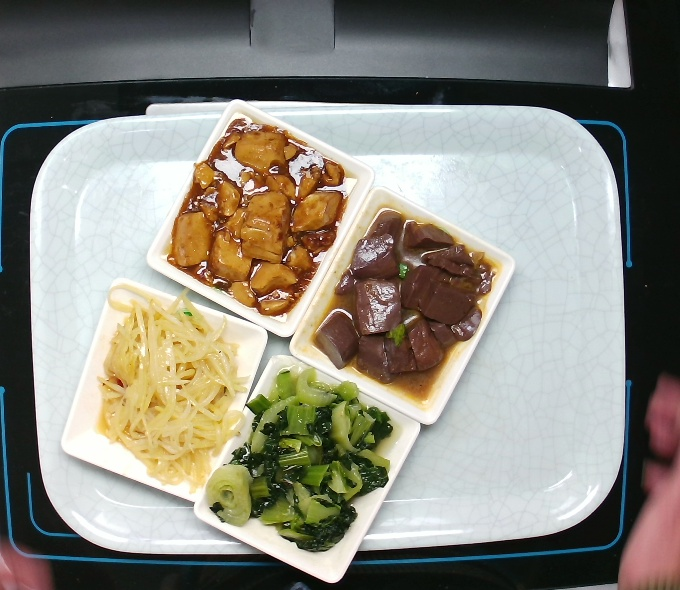wcq-MaPoDouFu: (163, 115, 346, 321)
wcq-NiuXue: (310, 203, 495, 395)
wcq-TuDouSi: (83, 275, 258, 488)
wcq-YouDongCai: (203, 365, 401, 550)
